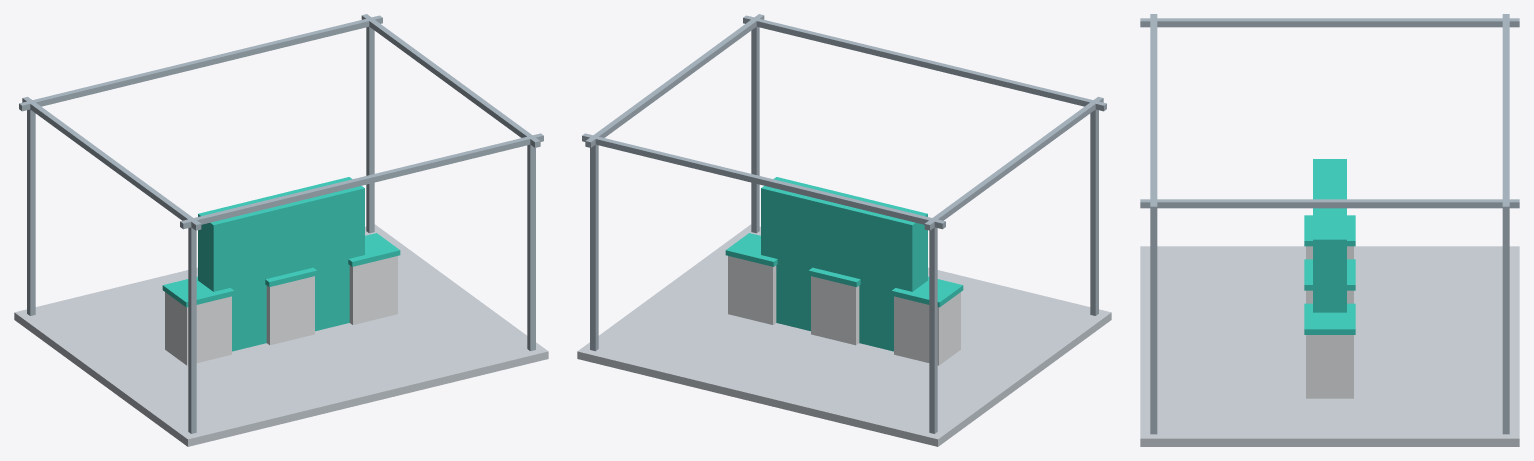
3 views of the same model, side by side, from view 1: azimuth 30°, elevation 25°; view 2: azimuth 150°, elevation 25°; view 3: azimuth 270°, elevation 25° (orthographic). The views are drawn at different scales.
Parts seen in each view (by area): view 1: Exhibition Booth Concept; view 2: Exhibition Booth Concept; view 3: Exhibition Booth Concept.
Boxes of the visible parts, x1,y1,x2,y2 form: Exhibition Booth Concept: (14, 14, 548, 446); Exhibition Booth Concept: (577, 14, 1111, 446); Exhibition Booth Concept: (1140, 14, 1519, 446).
Bounding box in the file's own units: 6 × 3.49 × 5.
